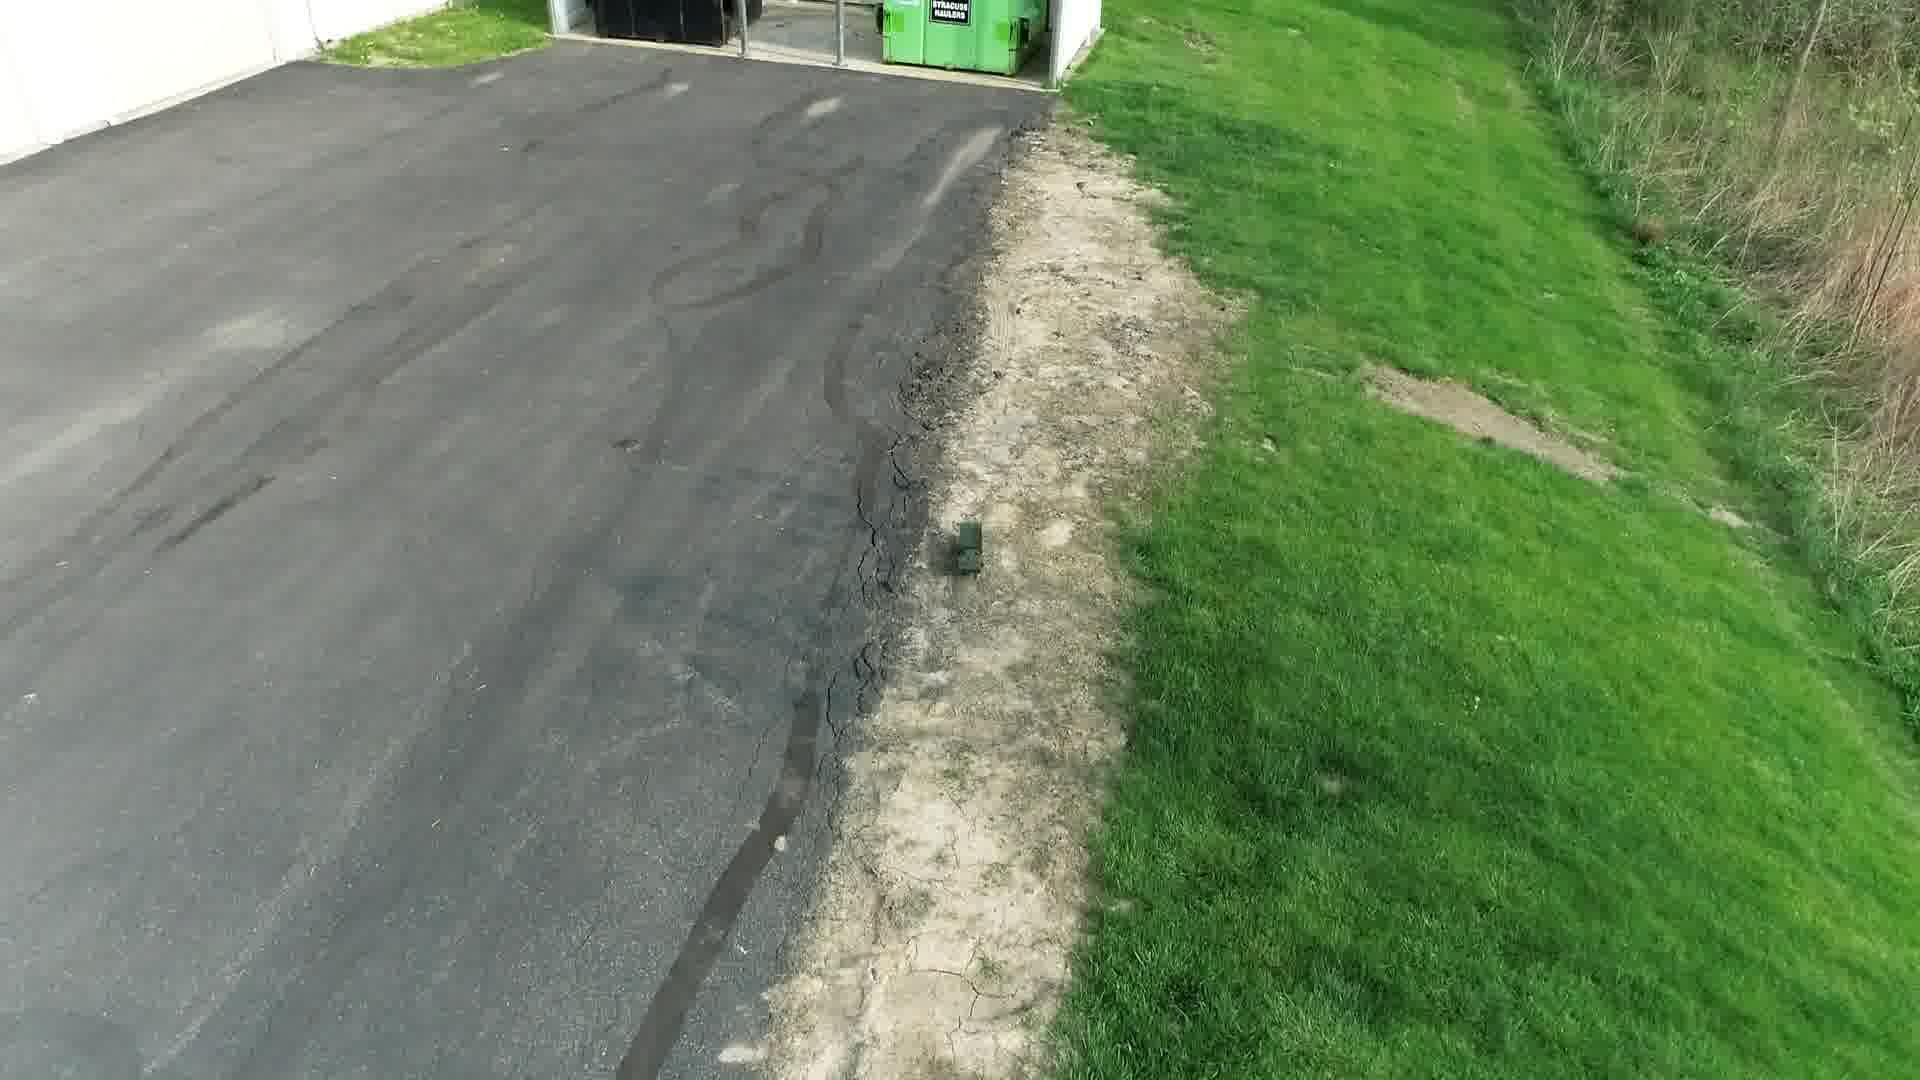transporter9: (949, 520, 986, 576)
